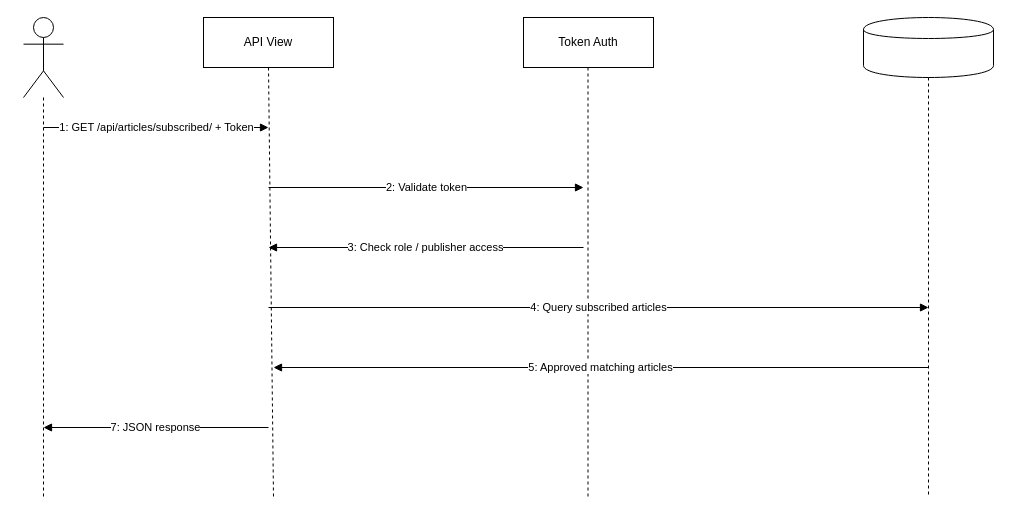
The diagram is 1011 pixels wide and 516 high, and some of its shapes have lost their labels. Each missing label, with the centre of its shape:
"API Client" belongs at point 43,57.
"MariaDB" belongs at point 928,47.
